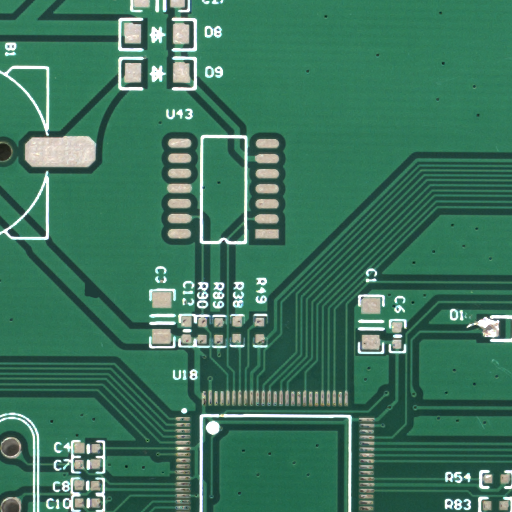Mouse_bite: (90, 289, 111, 314)
